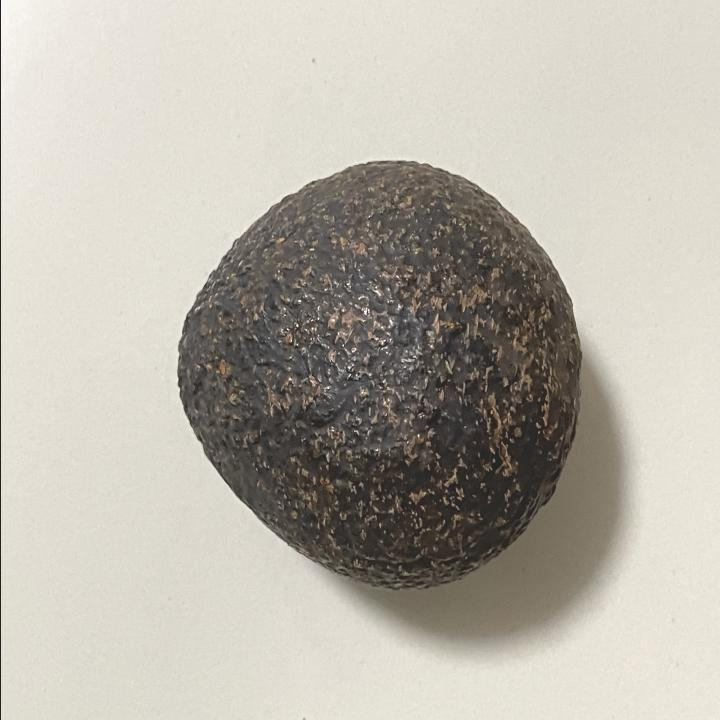Level3: (170, 151, 588, 598)
